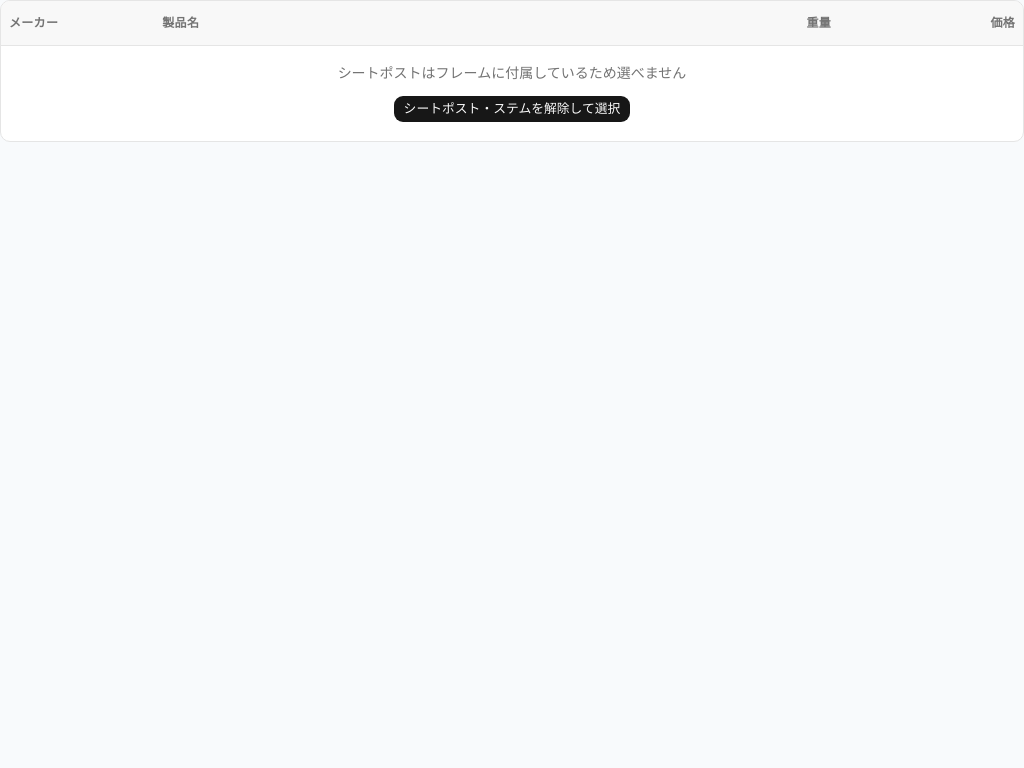
Test: CandidatePartsBlockedMessage › 複数のカテゴリとパーツを区切って示す
Click the button "シートポスト・ステムを解除して選択".
click(512, 109)  # box top-left (393, 95), bottom-right (631, 123)
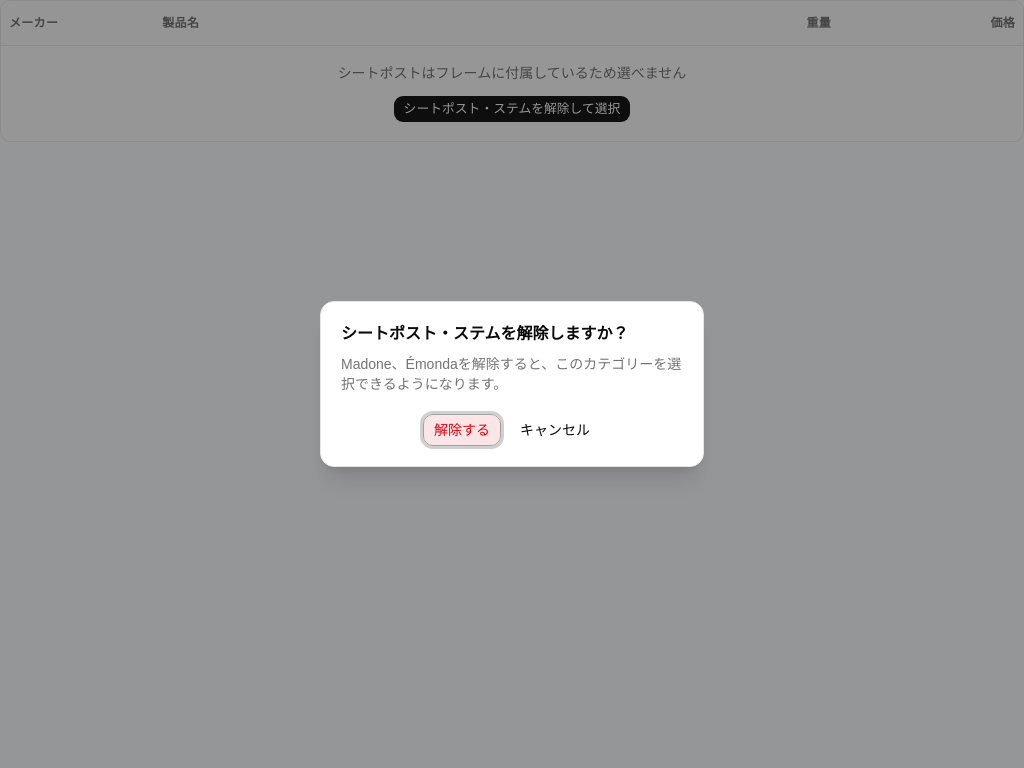
Check: the text "Madone、Émondaを解除すると、このカテゴリーを選択できるようになります。" is shown, box top-left (341, 354), bottom-right (683, 394)
